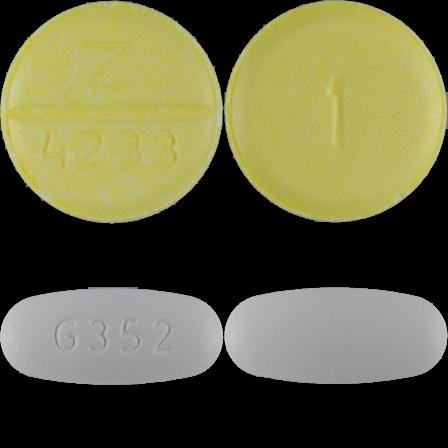35356-912: (0, 0, 224, 224)
